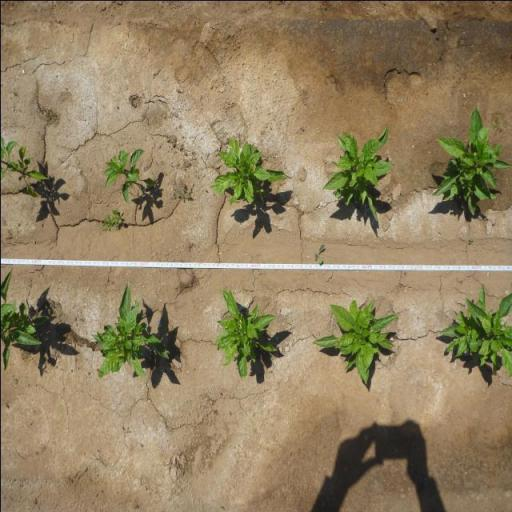plant: (428, 101, 512, 218), (311, 293, 401, 388), (320, 122, 396, 226), (94, 281, 170, 383), (435, 280, 512, 378), (214, 286, 280, 382), (0, 266, 54, 374), (208, 134, 288, 204), (0, 133, 50, 200), (102, 146, 158, 204)
weed: (97, 206, 126, 233), (172, 180, 194, 202), (312, 242, 325, 265), (468, 236, 474, 244), (202, 188, 208, 192), (96, 367, 98, 372), (88, 371, 90, 376)
